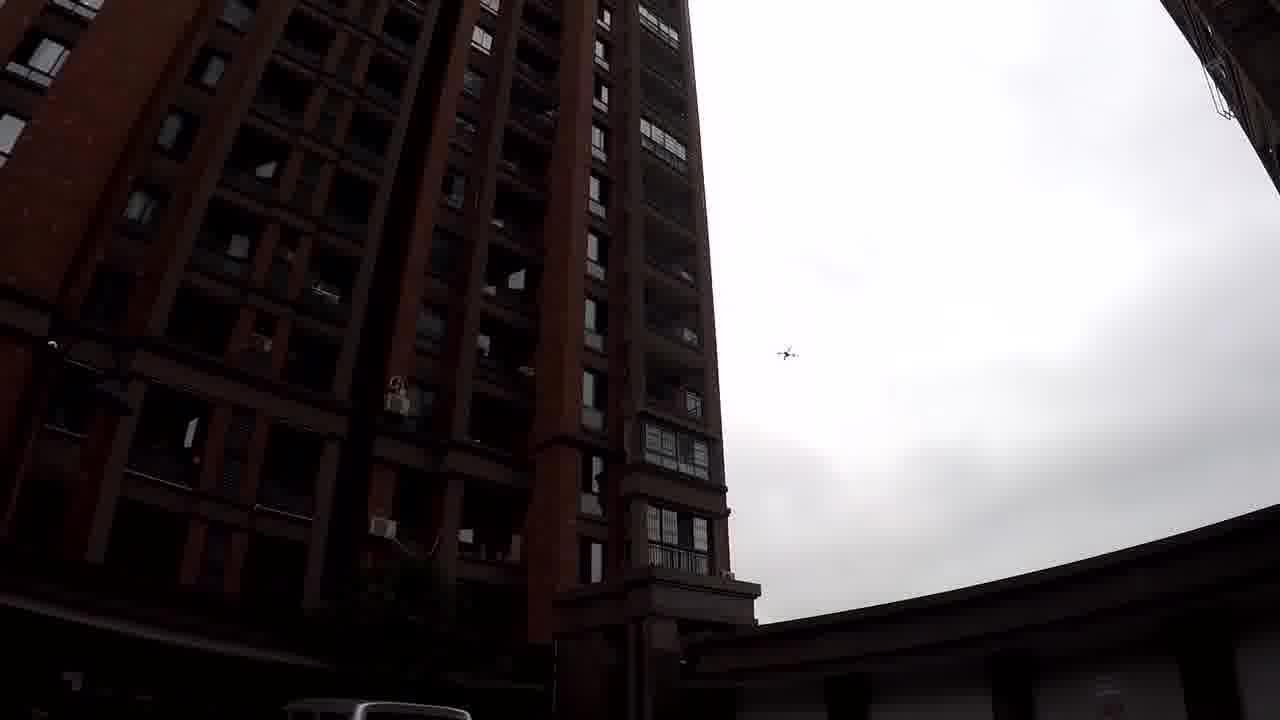drone: (776, 345, 801, 364)
